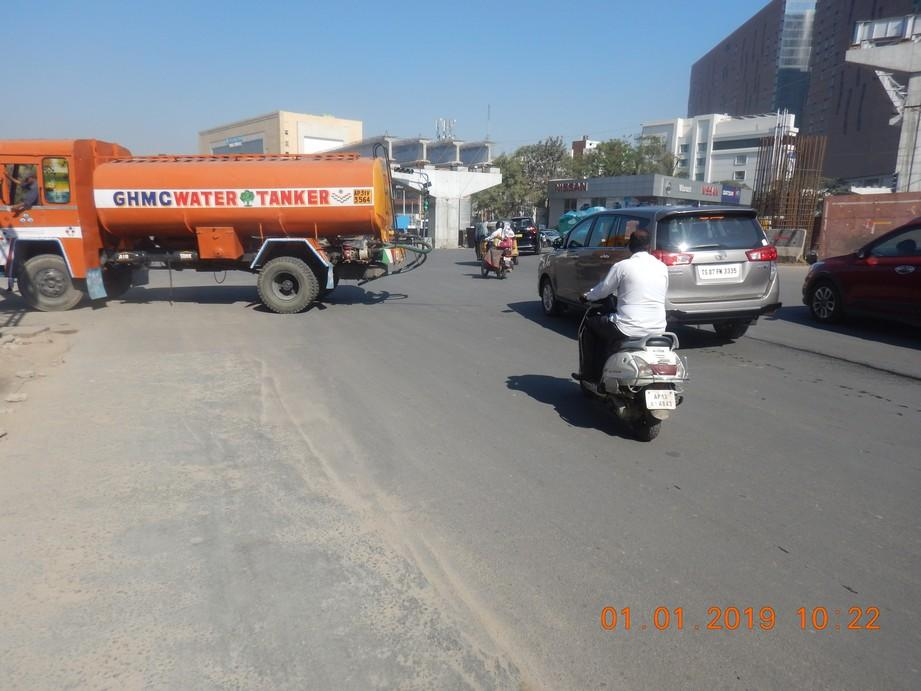plate: (645, 388, 675, 410)
